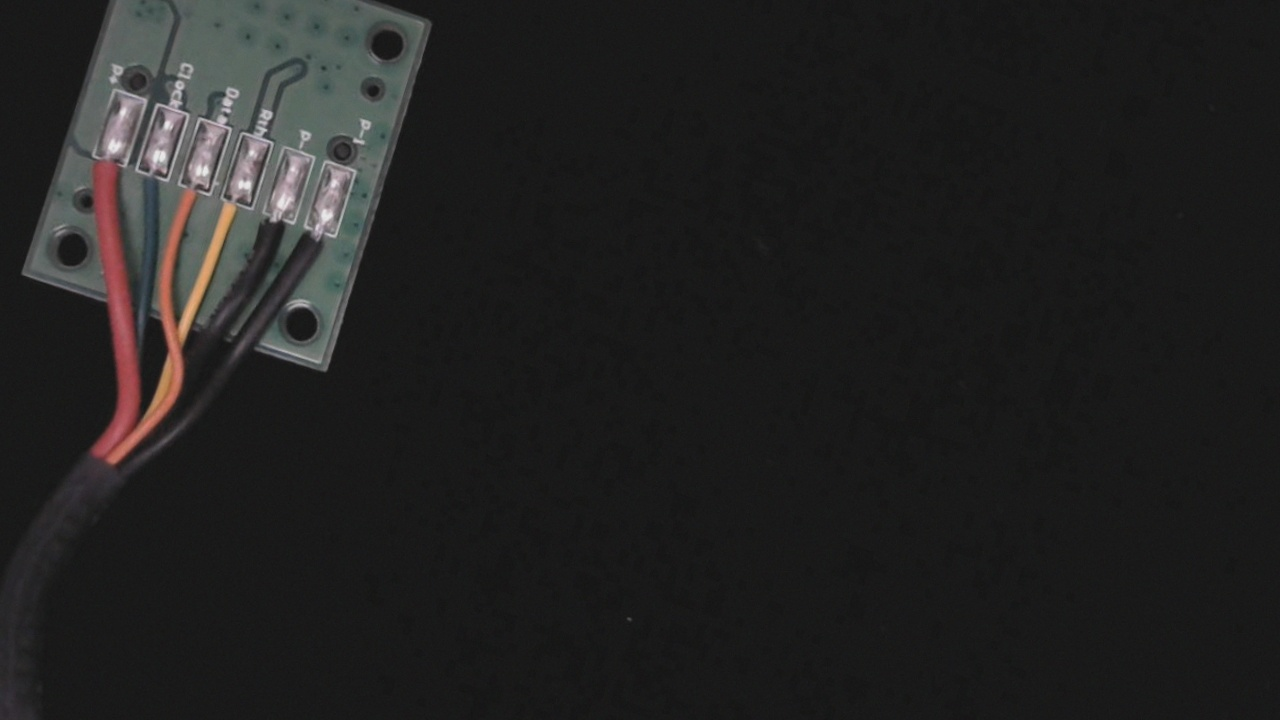Black: (243, 196, 298, 274)
Black1: (285, 211, 343, 294)
Green: (113, 149, 175, 236)
Orange: (156, 165, 215, 253)
Red: (74, 135, 135, 222)
Yellow: (197, 179, 260, 270)
